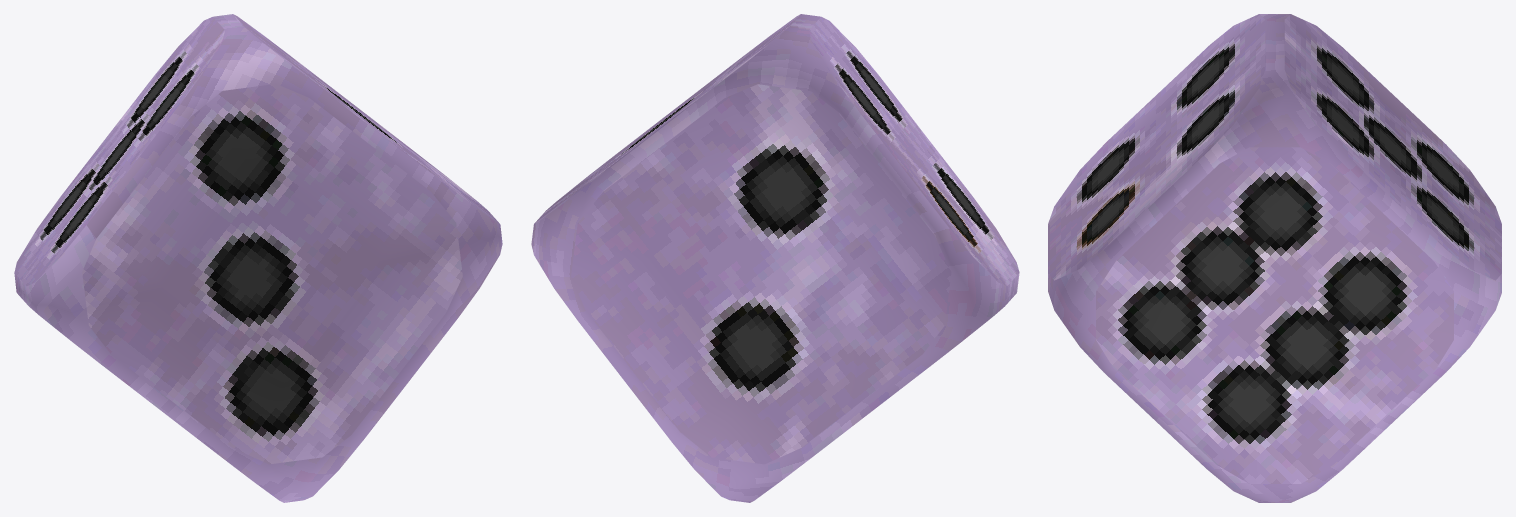
Rendered from ps2_save-icons_hasbrofamilygamenight.glb.
3 renders of one model, left to right at view 1: azimuth 30°, elevation 25°; view 2: azimuth 150°, elevation 25°; view 3: azimuth 270°, elevation 25°, orthographic. The views are drawn at different scales.
Parts seen in each view (by area): view 1: WP_MISC_PS2SaveGame.ico; view 2: WP_MISC_PS2SaveGame.ico; view 3: WP_MISC_PS2SaveGame.ico.
Boxes of the visible parts, bbox=[...] form: WP_MISC_PS2SaveGame.ico: bbox=[14, 14, 502, 502]; WP_MISC_PS2SaveGame.ico: bbox=[531, 14, 1019, 502]; WP_MISC_PS2SaveGame.ico: bbox=[1048, 14, 1501, 502].
Size of the model in its own units: 4.41 by 4.42 by 4.03.
1 material, 1 textured.
